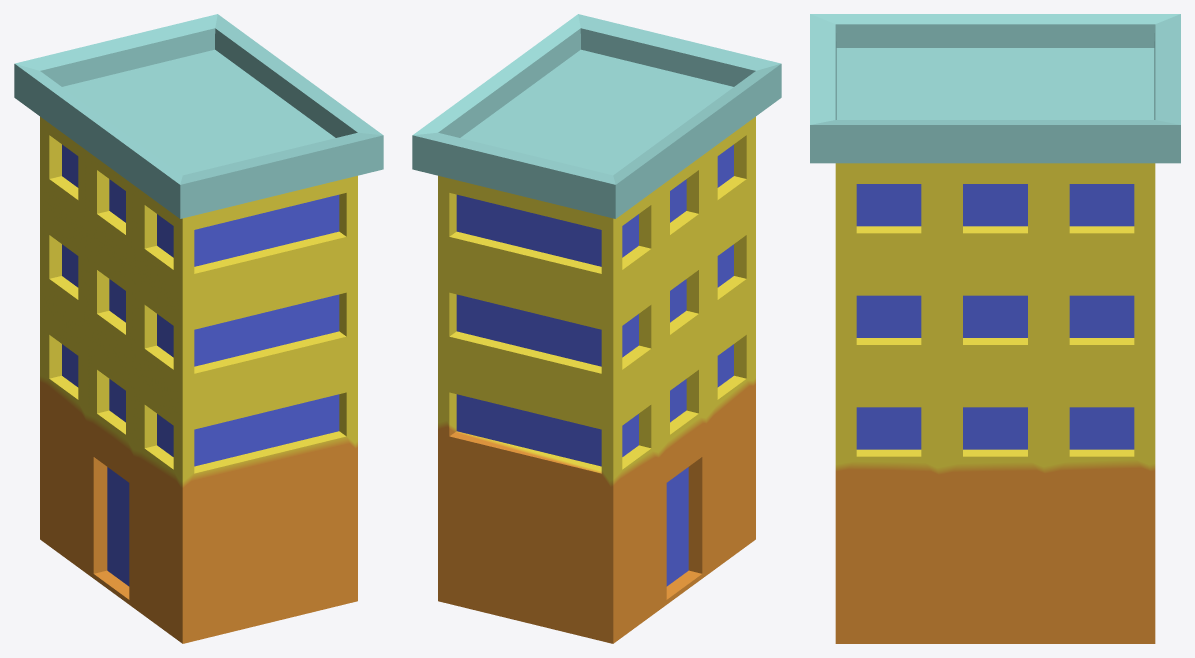
Rendered from house23.fbx.
3 views of the same model, side by side, from view 1: azimuth 30°, elevation 25°; view 2: azimuth 150°, elevation 25°; view 3: azimuth 270°, elevation 25° (orthographic). The views are drawn at different scales.
Parts seen in each view (by area): view 1: building.004; view 2: building.004; view 3: building.004.
Part boxes in pixels (left/top/right/bottom): building.004: left=14, top=14, right=383, bottom=643; building.004: left=412, top=14, right=781, bottom=643; building.004: left=810, top=14, right=1180, bottom=643.
Bounding box in the file's own units: 650 × 1439 × 918.
